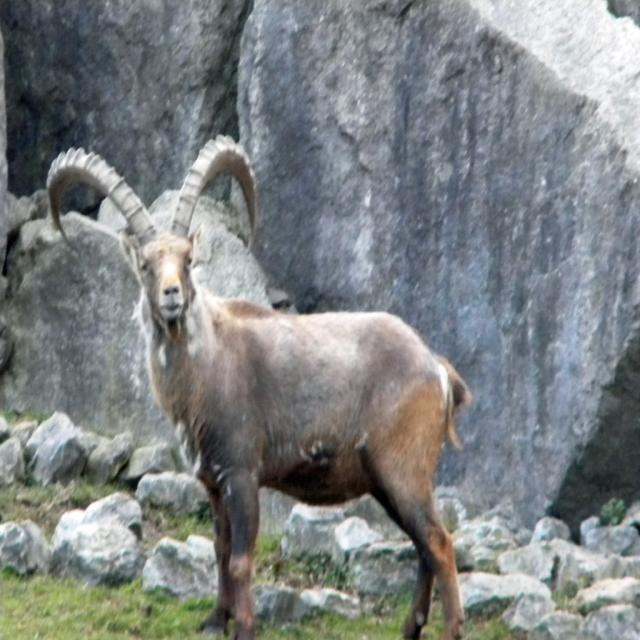Goat: (46, 134, 472, 640)
